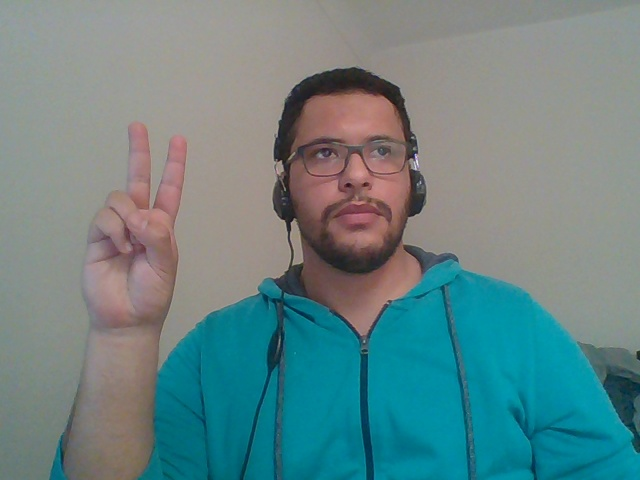vectory: (47, 107, 209, 339)
